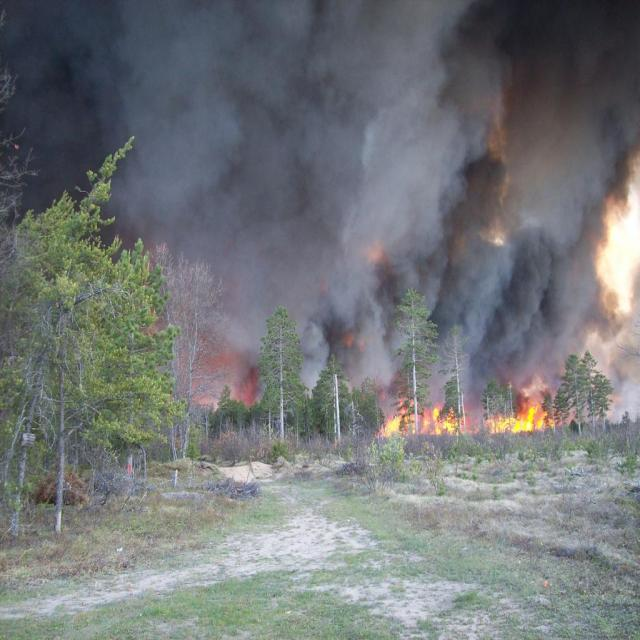Fire: (374, 367, 565, 454)
